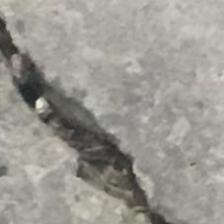Crack: (0, 18, 185, 224)
